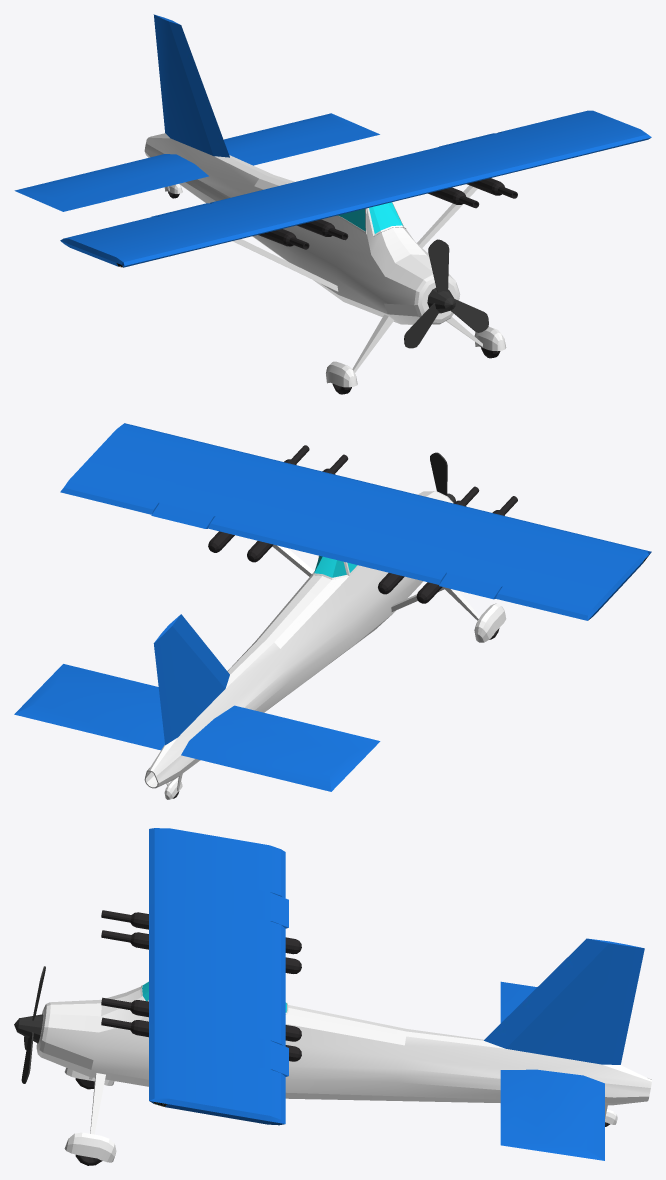
The picture shows the model from 3 angles, top to bottom: view 1: azimuth 30°, elevation 25°; view 2: azimuth 150°, elevation 25°; view 3: azimuth 270°, elevation 25°; orthographic projection. The views are drawn at different scales.
Parts seen in each view (by area): view 1: Plane2, Motor; view 2: Plane2, Motor; view 3: Plane2, Motor.
Part boxes in pixels (x1,y1,x2,y2): Plane2: (14,14,651,394); Motor: (404,239,488,348); Plane2: (14,423,651,799); Motor: (430,452,455,502); Plane2: (36,828,651,1165); Motor: (14,966,45,1083).
Bounding box in the file's own units: 654 × 211 × 648.
Materials: 1 (1 with a texture image).
